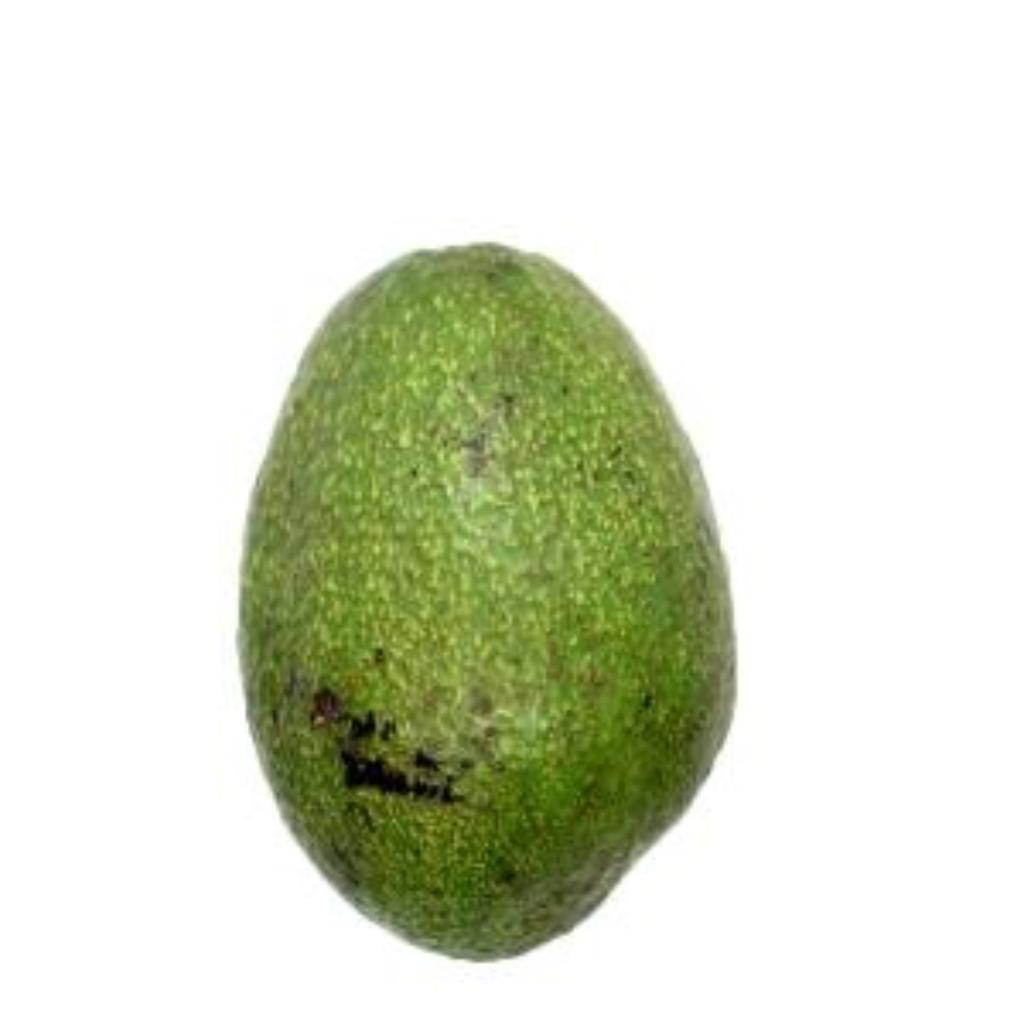cercospora_spot: (240, 226, 756, 978)
